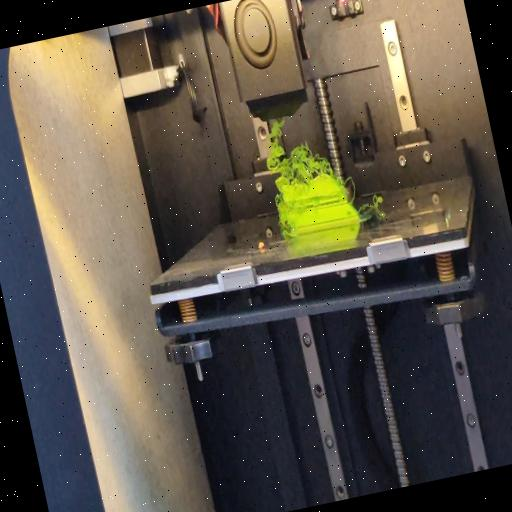spaghetti: (256, 110, 336, 190), (356, 194, 382, 216), (340, 172, 358, 202), (283, 226, 290, 236)
